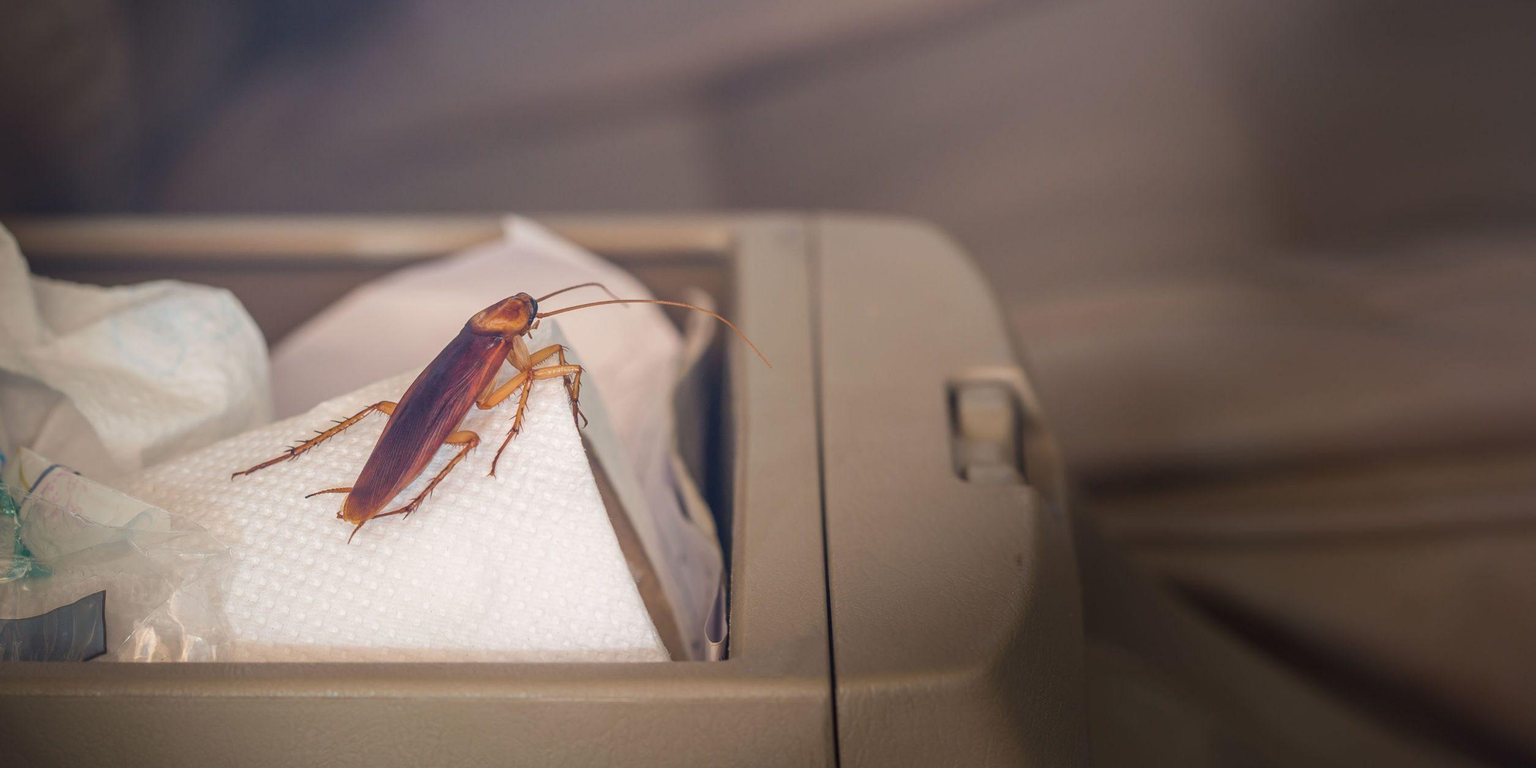cockroach: (337, 281, 545, 537)
